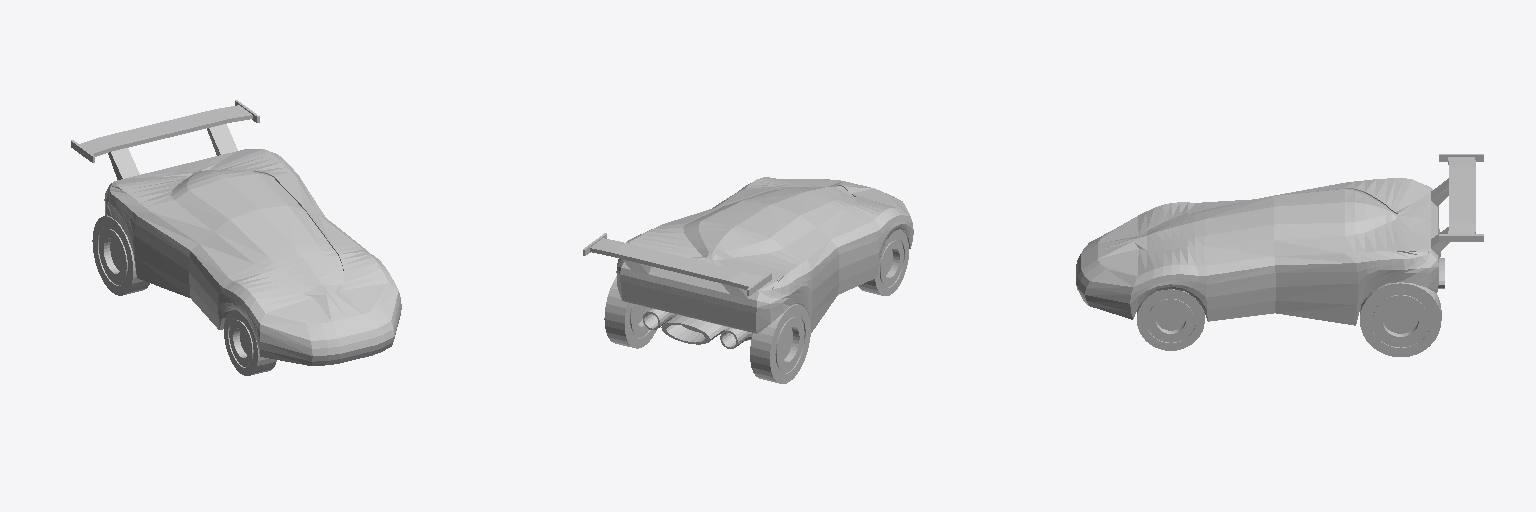
Rendered from fbxsucks 1.obj.
3 renders of one model, left to right at view 1: azimuth 30°, elevation 25°; view 2: azimuth 150°, elevation 25°; view 3: azimuth 270°, elevation 25°, orthographic.
Parts seen in each view (by area): view 1: Body_Cube.002, Wheel_BR_Cylinder.012, Wheel_FR_Cylinder.014; view 2: Body_Cube.002, Wheel_BR_Cylinder.012, Wheel_BL_Cylinder.001, Wheel_FR_Cylinder.014, Boost_M_Cylinder.011; view 3: Body_Cube.002, Wheel_BL_Cylinder.001, Wheel_FL_Cylinder.013.
Boxes of the visible parts, x1=… form: Body_Cube.002: x1=71, y1=100, x2=401, y2=365; Wheel_BR_Cylinder.012: x1=92, y1=215, x2=149, y2=295; Wheel_FR_Cylinder.014: x1=224, y1=310, x2=276, y2=375; Body_Cube.002: x1=583, y1=177, x2=913, y2=333; Wheel_BR_Cylinder.012: x1=750, y1=304, x2=810, y2=383; Wheel_BL_Cylinder.001: x1=604, y1=276, x2=656, y2=348; Wheel_FR_Cylinder.014: x1=858, y1=230, x2=908, y2=295; Boost_M_Cylinder.011: x1=661, y1=315, x2=728, y2=344; Body_Cube.002: x1=1076, y1=154, x2=1483, y2=325; Wheel_BL_Cylinder.001: x1=1360, y1=282, x2=1441, y2=356; Wheel_FL_Cylinder.013: x1=1137, y1=289, x2=1204, y2=350.
Size of the model in its own units: 5.73 by 3.96 by 11.99.